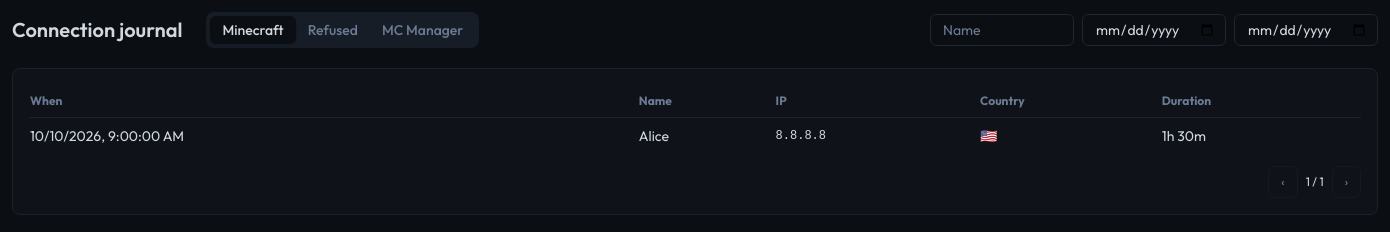
Test: Journal page › switches to refusals and web logins
Expected: the text "Alice" is shown, x1=638 y1=118 x2=775 y2=154
Step 1. Press the mouse on the tab "Refused" → coordinates (333, 30), box x1=296 y1=16 x2=370 y2=44
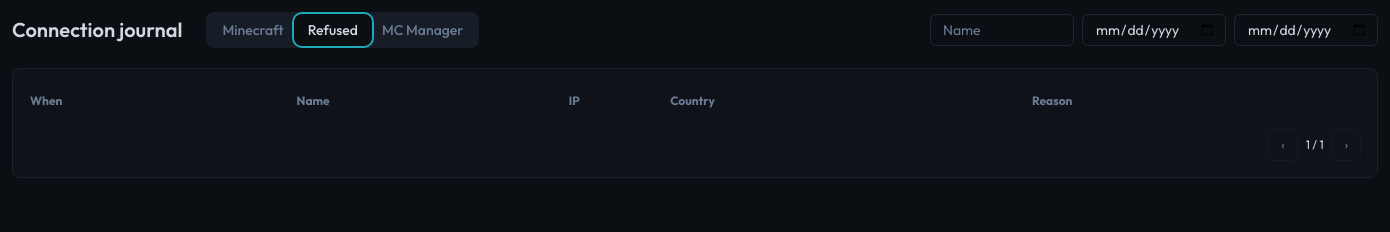
Step 2. Click the tab "Refused" → coordinates (333, 30), box x1=296 y1=16 x2=370 y2=44
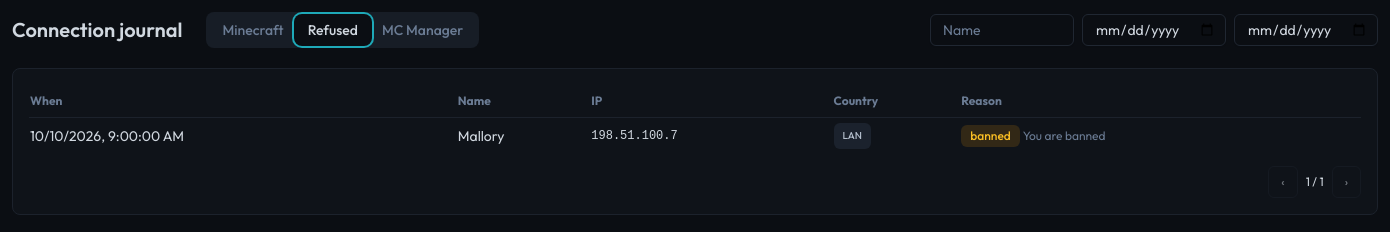
Now the text "Mallory" is shown, box x1=457 y1=118 x2=590 y2=154
Now the text "banned" is shown, box x1=961 y1=125 x2=1020 y2=147
Step 3. Press the mouse on the tab "MC Manager" → coordinates (423, 30), box x1=370 y1=16 x2=475 y2=44
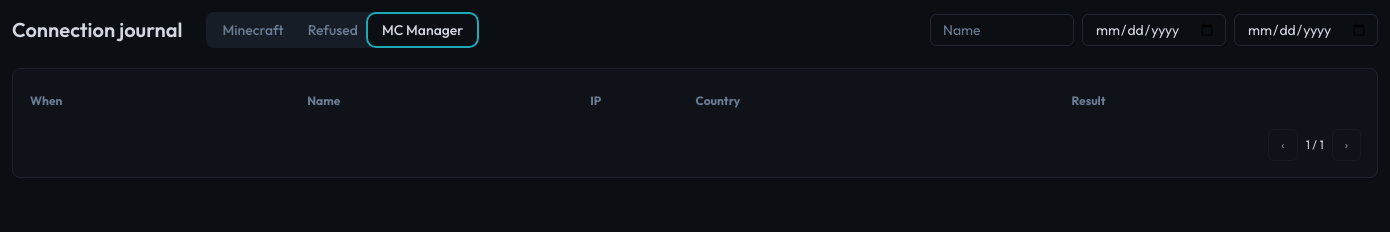
Step 4. Click the tab "MC Manager" → coordinates (423, 30), box x1=370 y1=16 x2=475 y2=44
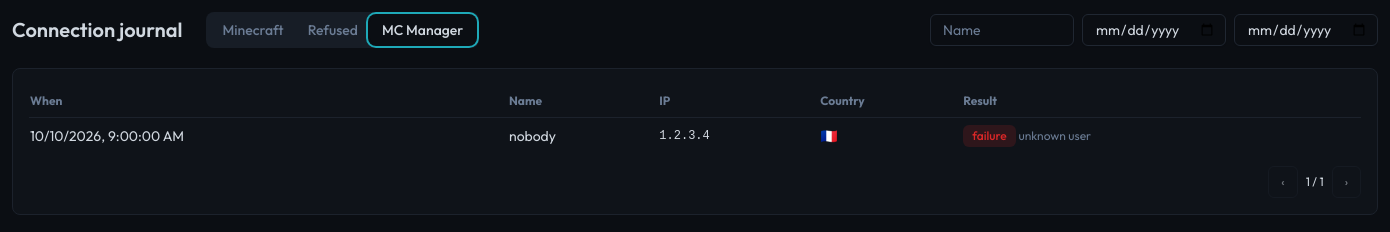
Now the text "nobody" is shown, box x1=508 y1=118 x2=658 y2=154
Now the text "unknown user" is shown, box x1=1018 y1=128 x2=1091 y2=143
Now the text "failure" is shown, box x1=963 y1=125 x2=1016 y2=147
